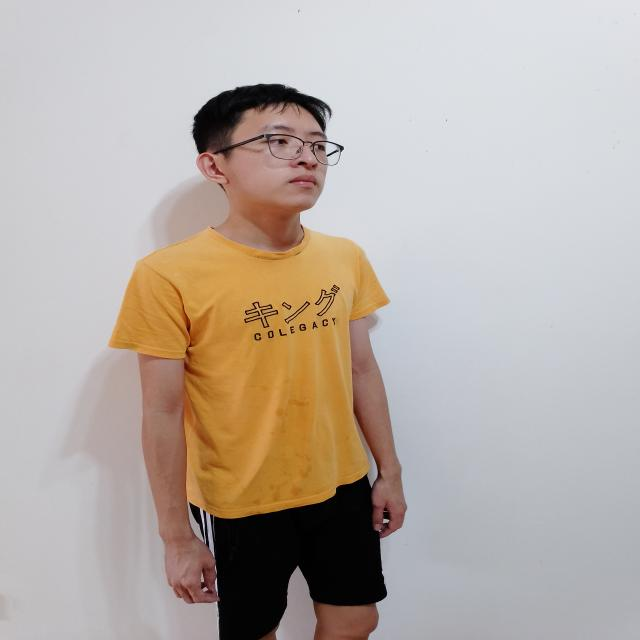person_without_labcoat: (109, 85, 406, 640)
